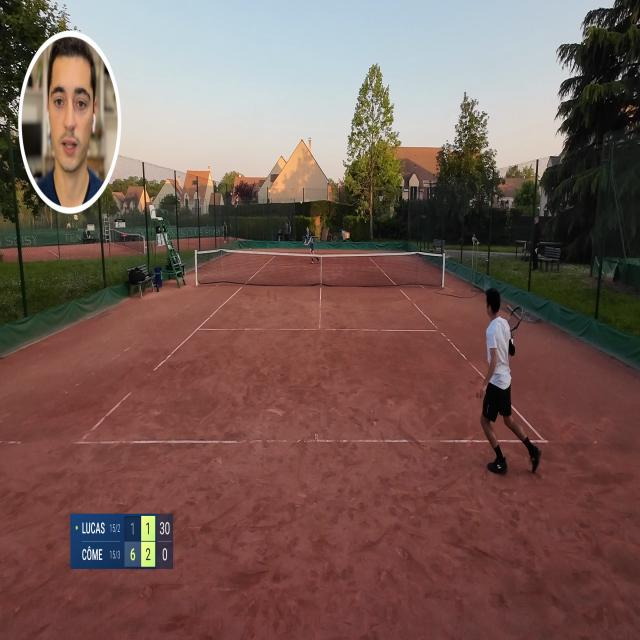ball: (300, 200, 302, 205)
